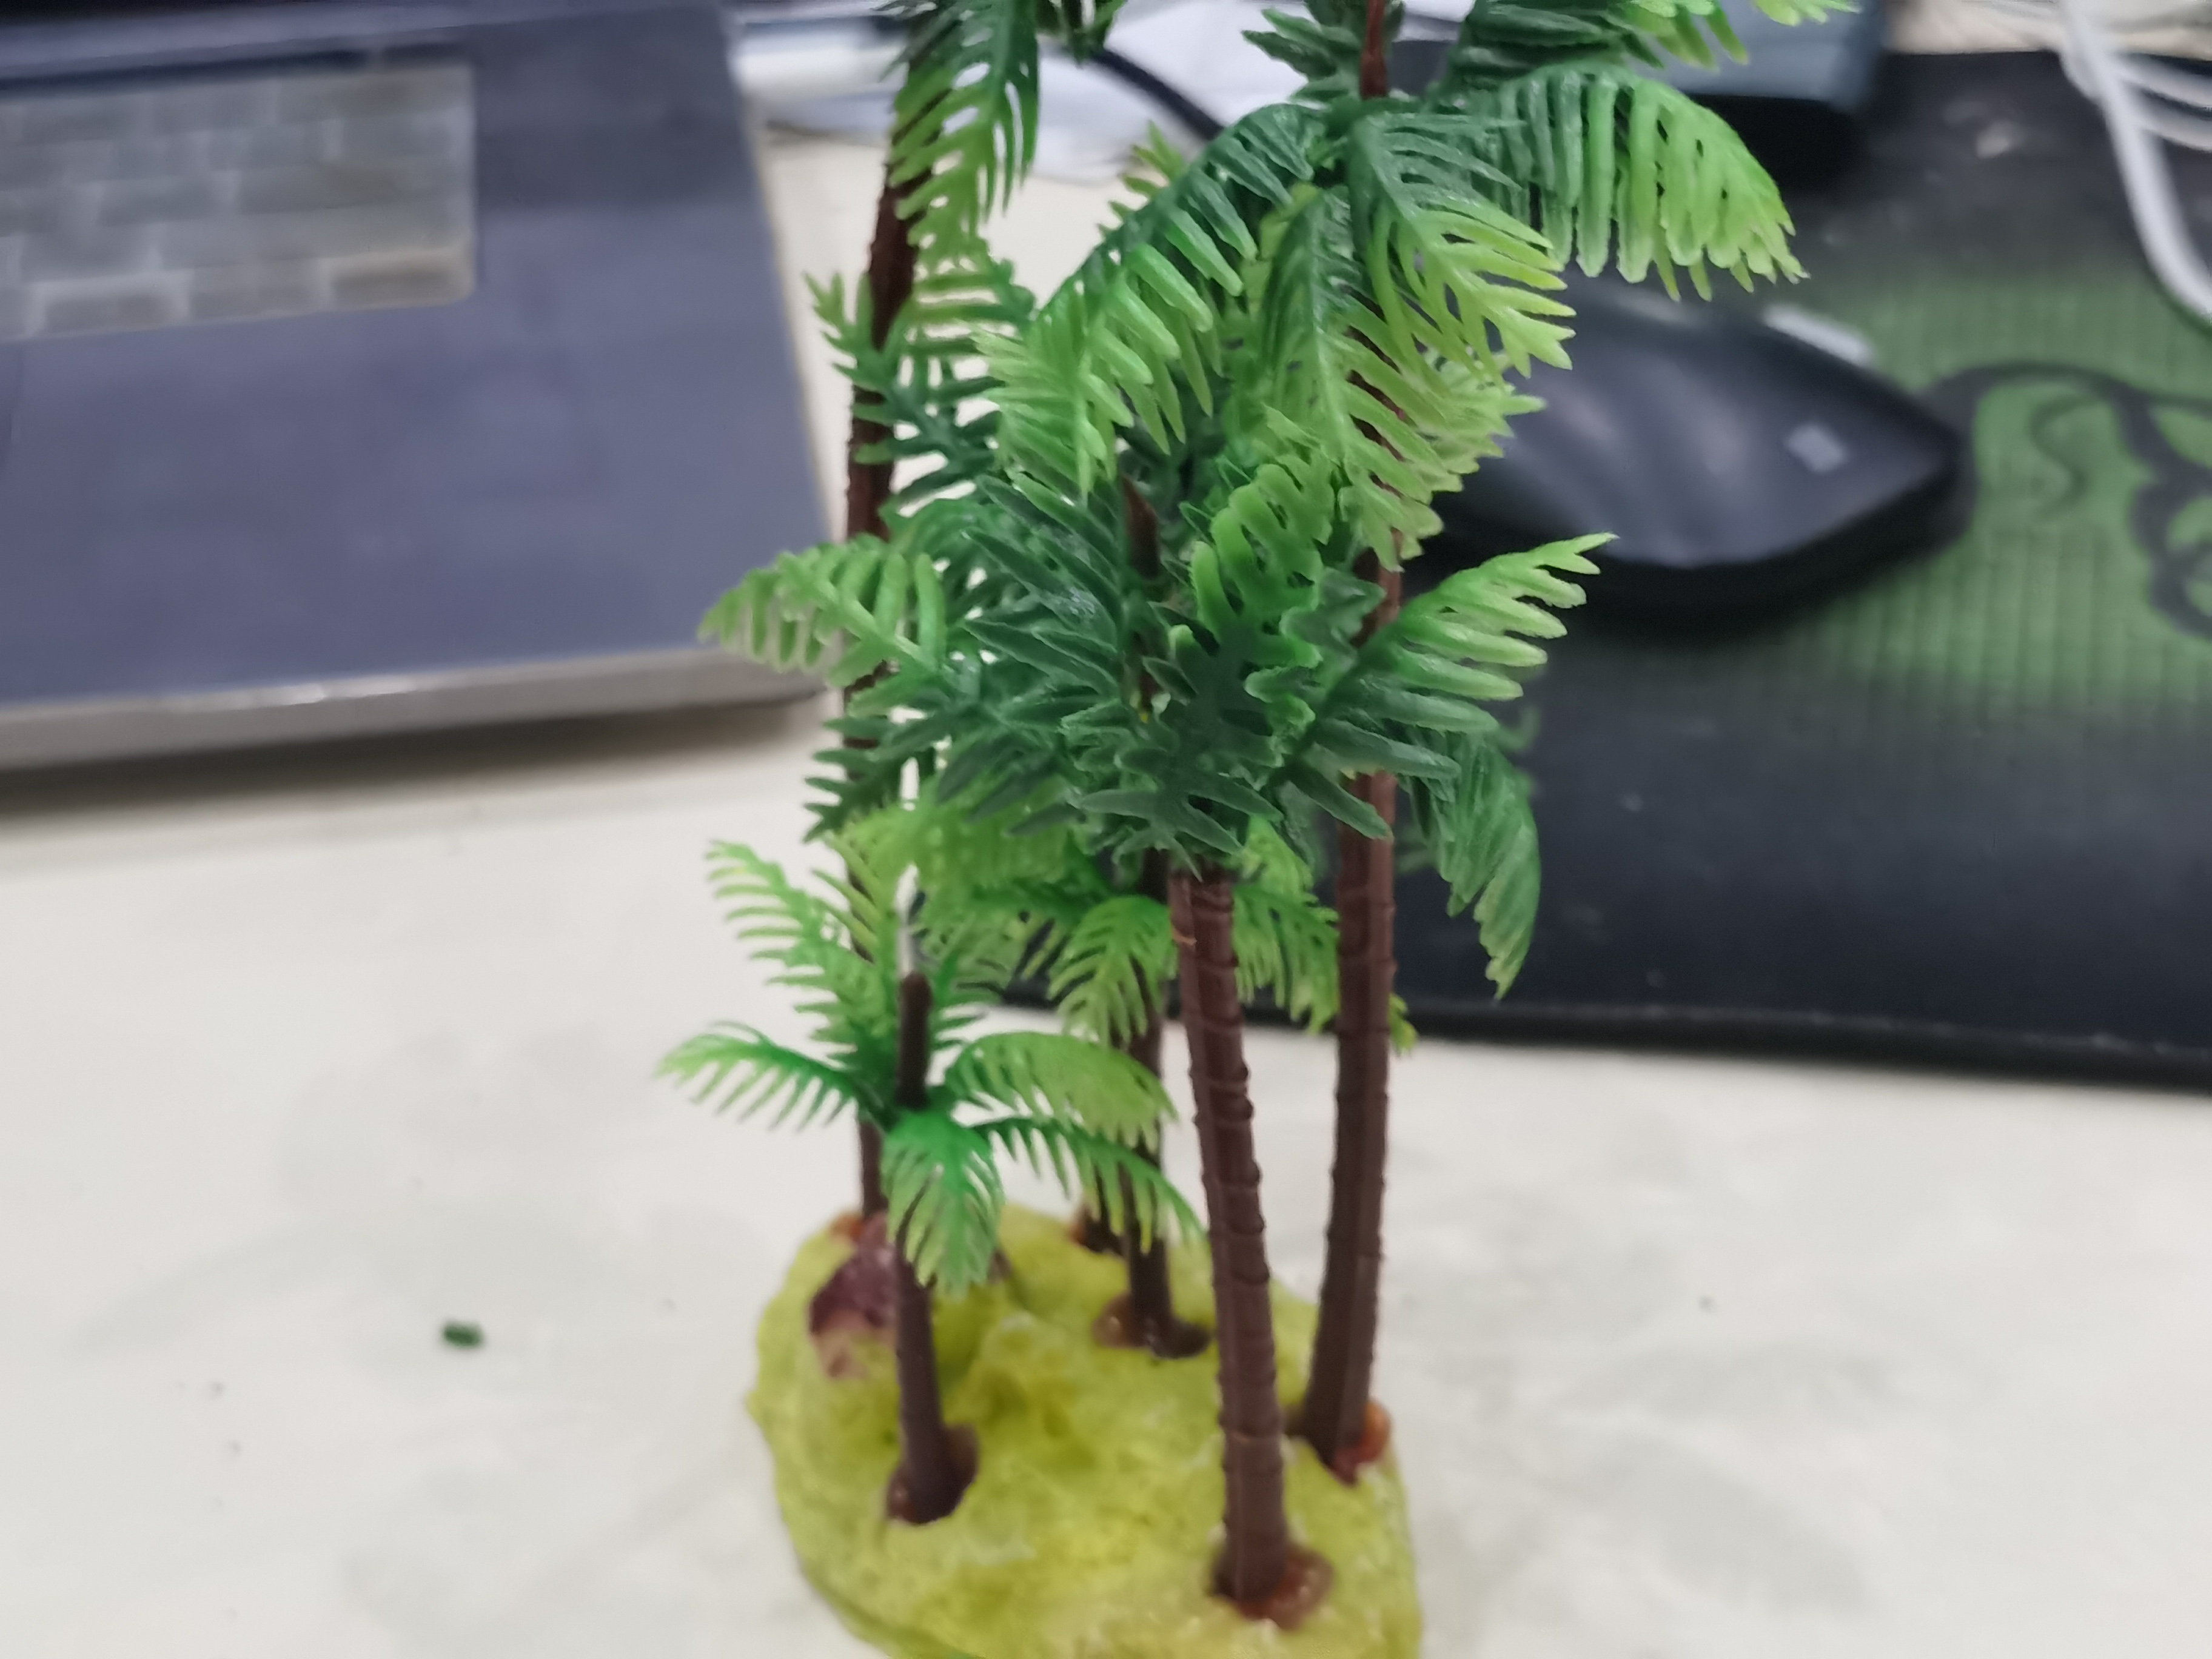corn: (667, 3, 1857, 1659)
